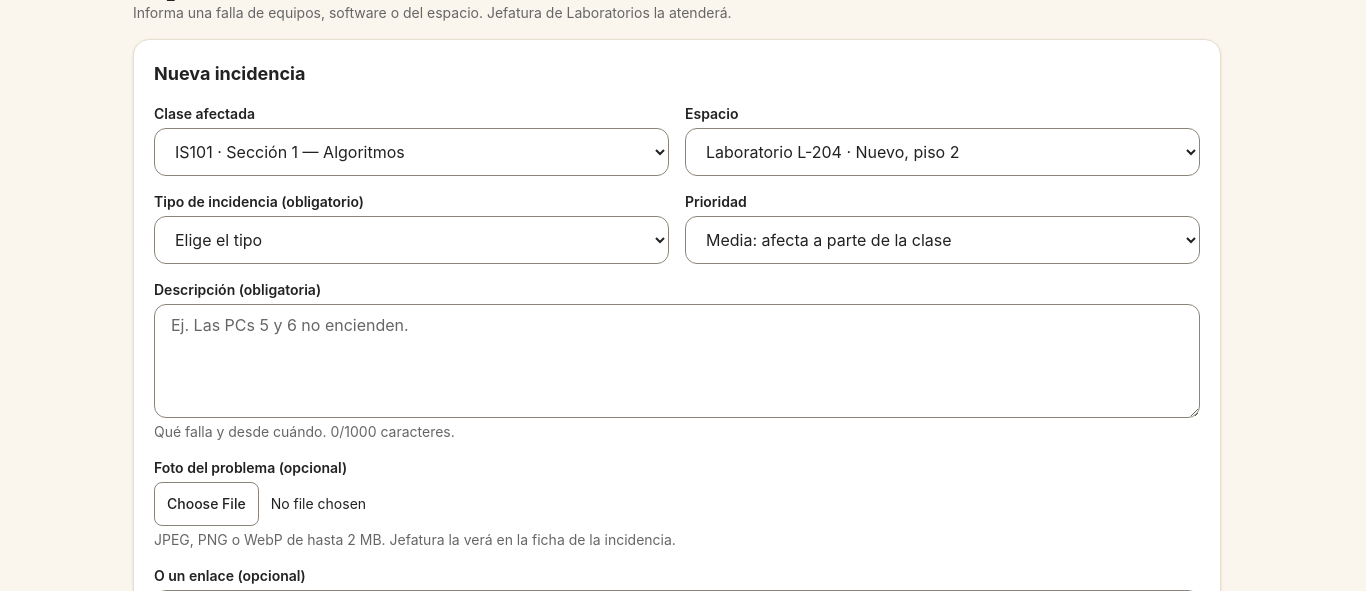
Foto de la incidencia (Issue 7.19) › sin foto no intenta subir nada
Select "Equipo que no funciona" in the dropdown labelled "Tipo de incidencia (obligatorio)". click: x=412, y=240
box: x1=154 y1=216 x2=669 y2=264
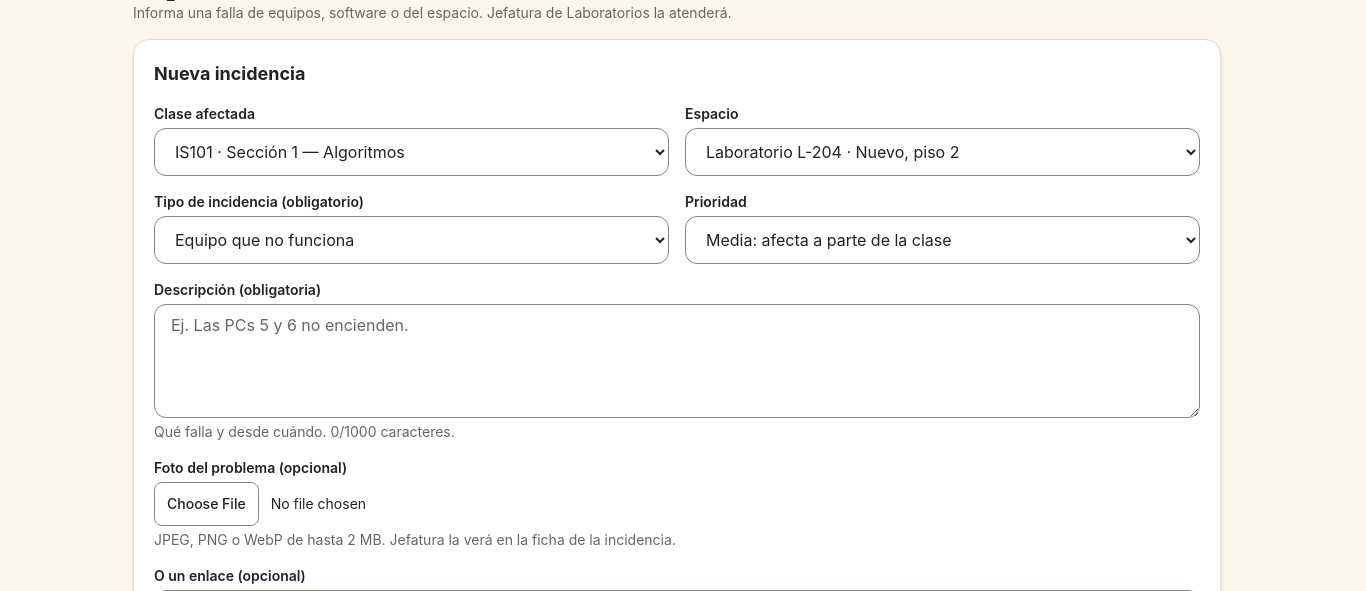
Type "La PC 5 no enciende." into the text box labelled "Descripción". click: x=677, y=361
box: x1=154 y1=304 x2=1200 y2=418
(page scrolled)
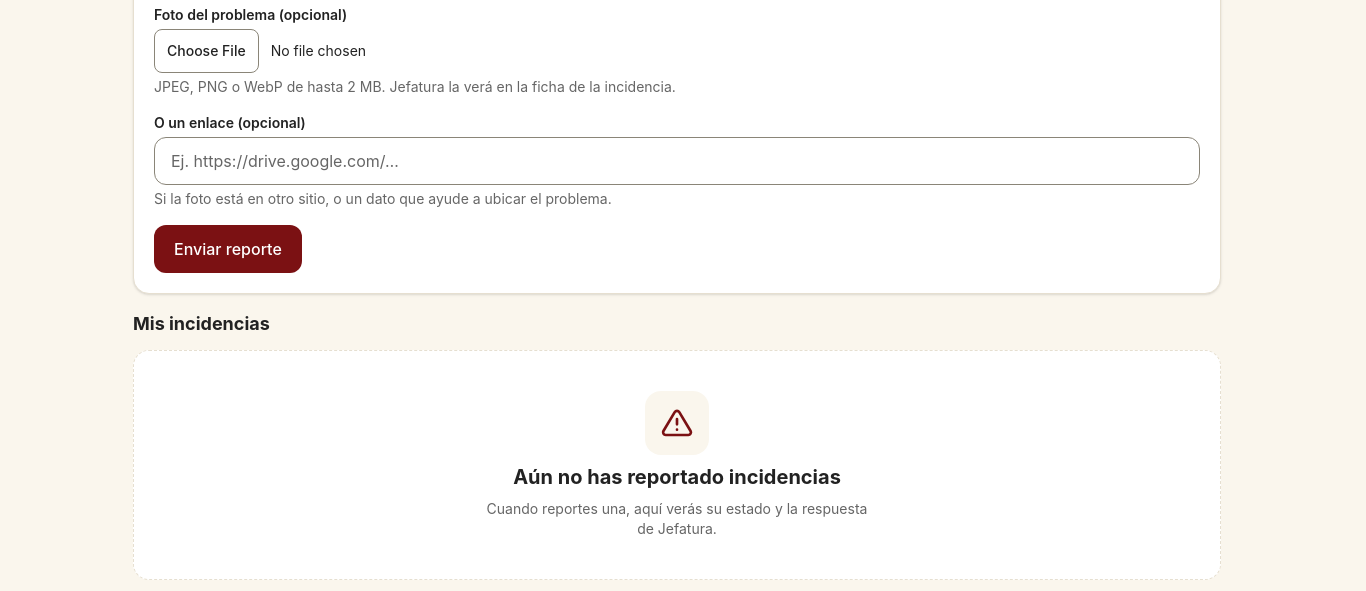
Click the button "Enviar reporte". click: x=228, y=249
box: x1=154 y1=225 x2=302 y2=273
(page scrolled)
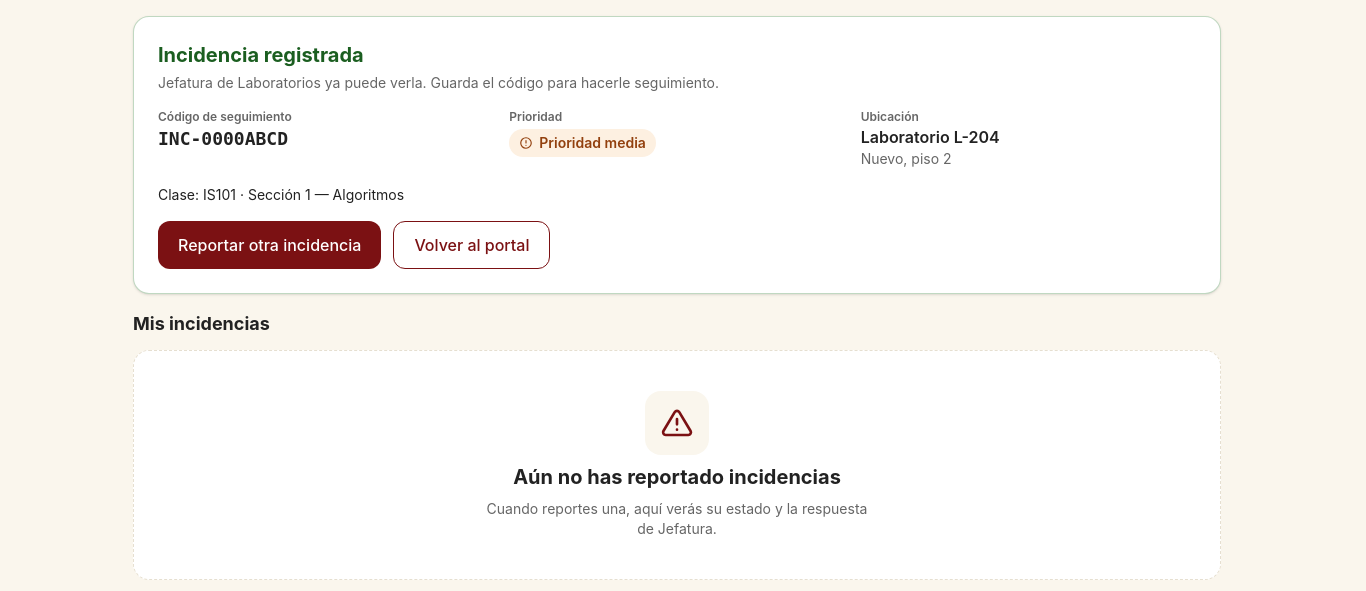
Result: the message "Incidencia registrada" is shown at x1=133 y1=16 x2=1221 y2=294
